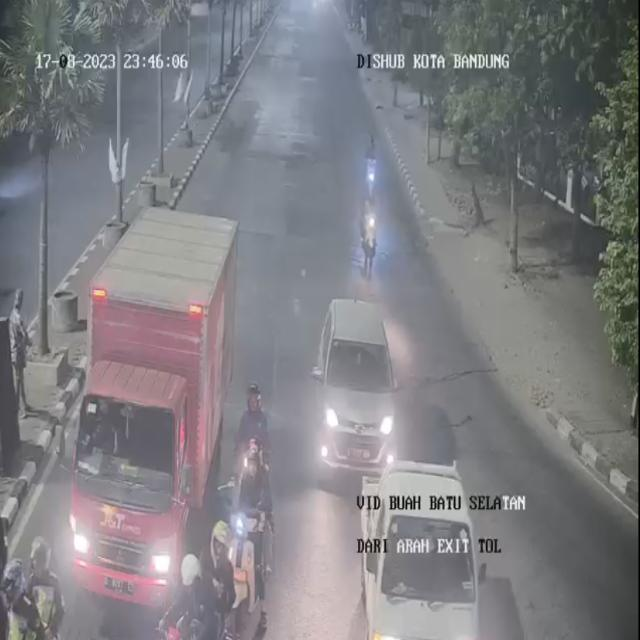cars: (364, 459, 494, 640), (316, 288, 399, 481)
motorcycle: (222, 448, 282, 634), (142, 530, 238, 640), (234, 382, 279, 512), (16, 533, 67, 640), (352, 188, 382, 287), (359, 132, 382, 213)
truck: (63, 206, 231, 618)
